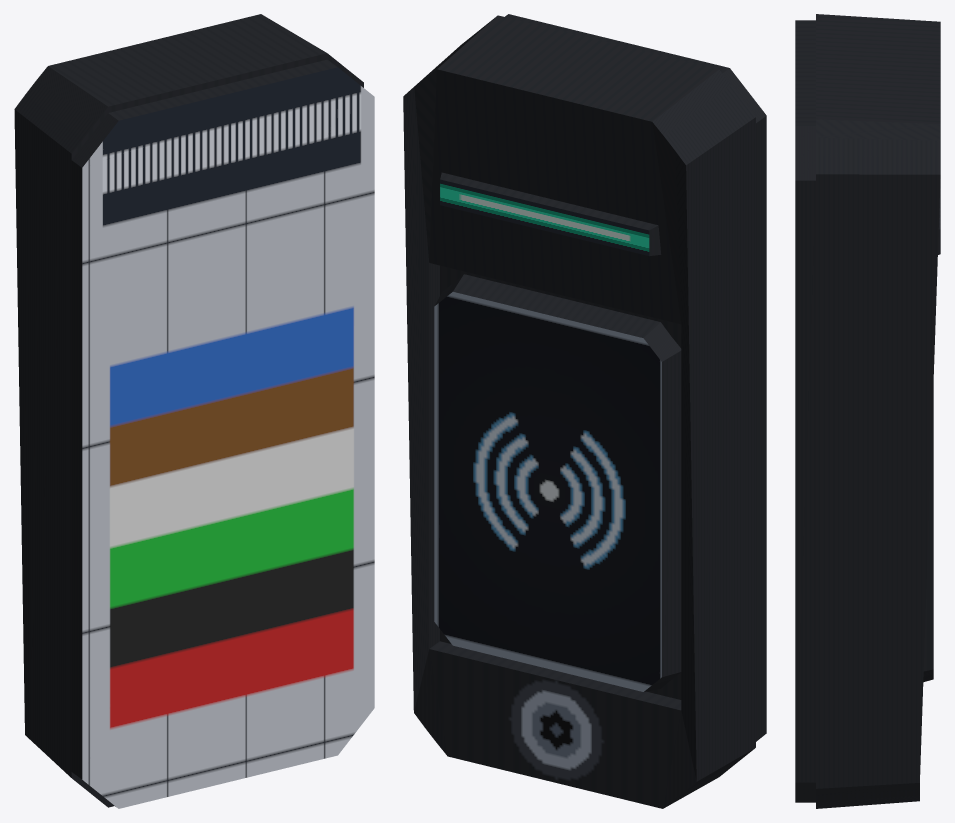
The model's file is SEC_RFID_Card_Reader.fbx.
The picture shows the model from 3 angles, left to right: view 1: azimuth 30°, elevation 25°; view 2: azimuth 150°, elevation 25°; view 3: azimuth 270°, elevation 25°; orthographic projection. The views are drawn at different scales.
Parts seen in each view (by area): view 1: Mount_Backplate, Reader_Housing; view 2: Reader_Housing, Card_Scan_Area, Mount_Backplate, Status_LED; view 3: Reader_Housing, Mount_Backplate, Card_Scan_Area.
Boxes of the visible parts, <box> form: Mount_Backplate: <box>71,59,374,808</box>; Reader_Housing: <box>14,14,363,807</box>; Reader_Housing: <box>403,15,755,808</box>; Card_Scan_Area: <box>434,274,681,691</box>; Mount_Backplate: <box>505,14,766,741</box>; Status_LED: <box>440,172,661,256</box>; Reader_Housing: <box>816,14,940,808</box>; Mount_Backplate: <box>795,20,815,802</box>; Card_Scan_Area: <box>923,384,933,682</box>.
Size of the model in its own units: 4.8 by 11 by 2.1.
Materials: 2 (2 with a texture image).
